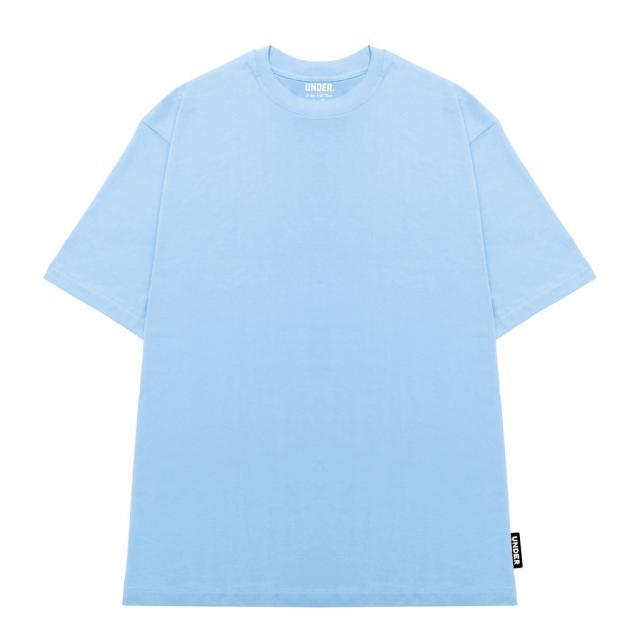Shirt: (40, 47, 592, 610)
